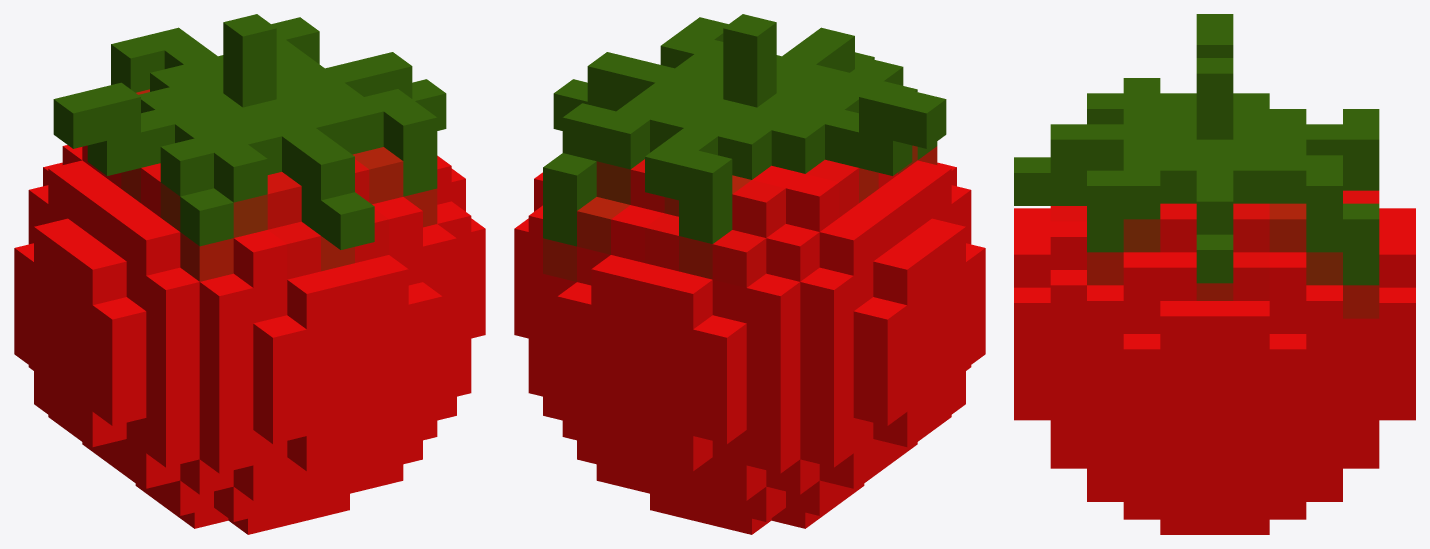
Rendered from Tomato.obj.
The picture shows the model from 3 angles, left to right: view 1: azimuth 30°, elevation 25°; view 2: azimuth 150°, elevation 25°; view 3: azimuth 270°, elevation 25°; orthographic projection. The views are drawn at different scales.
Visible parts, largest first — view 1: Tomato; view 2: Tomato; view 3: Tomato.
Part boxes in pixels (left/top/right/bottom): Tomato: left=14, top=14, right=485, bottom=534; Tomato: left=514, top=14, right=985, bottom=534; Tomato: left=1014, top=14, right=1415, bottom=534.
Size of the model in its own units: 11 by 13 by 11.
1 material, 1 textured.
